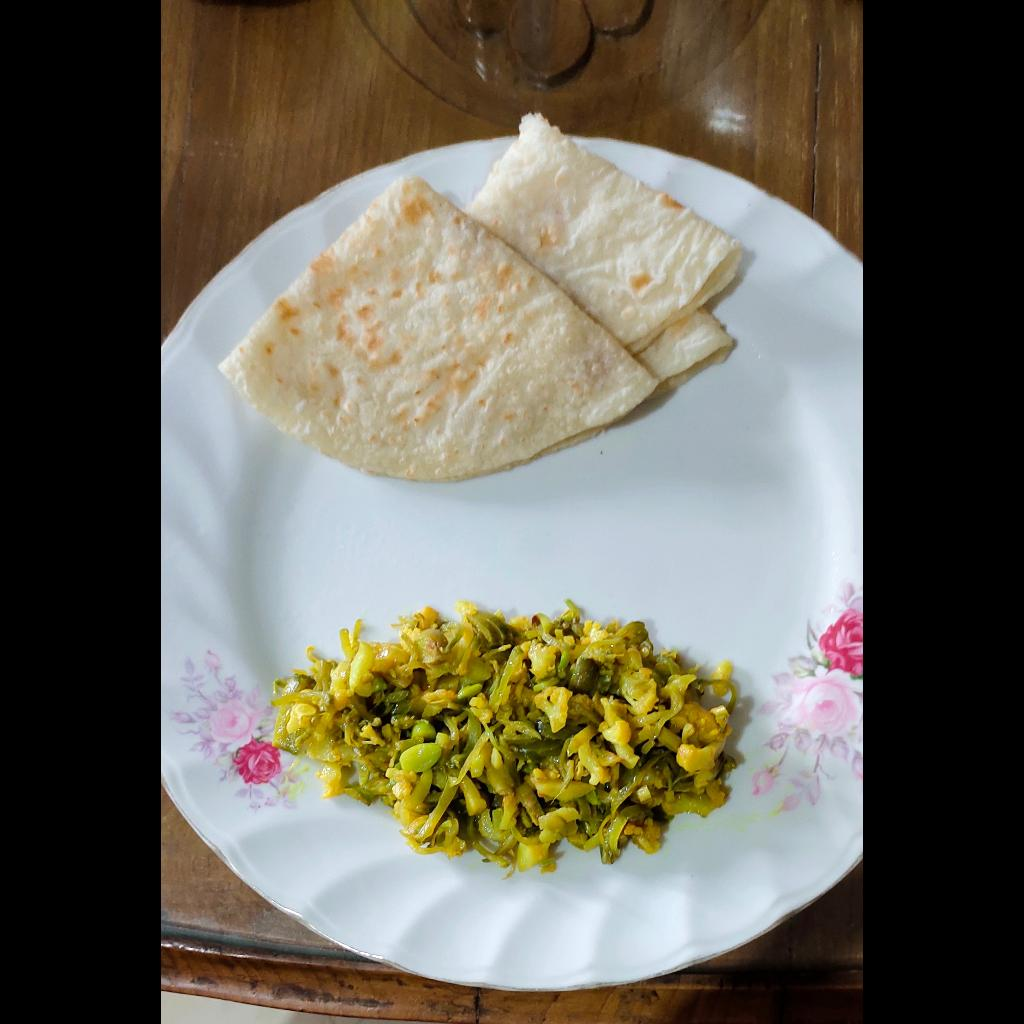ruti: (214, 102, 748, 484)
vegetable: (271, 601, 740, 878)
